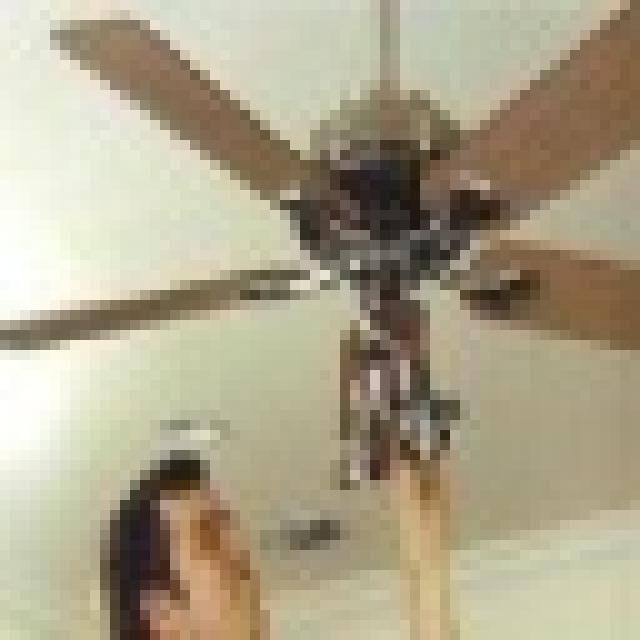fan_off: (2, 0, 640, 471)
